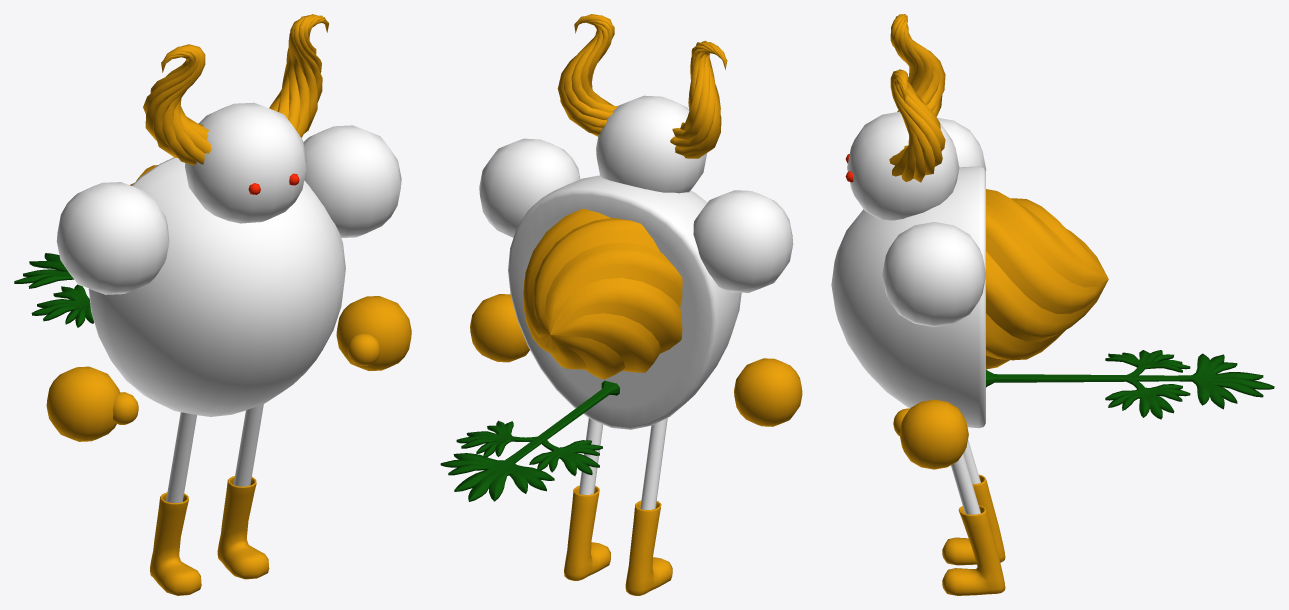
File: devilledEgg.fbx
3 views of the same model, side by side, from view 1: azimuth 30°, elevation 25°; view 2: azimuth 150°, elevation 25°; view 3: azimuth 270°, elevation 25° (orthographic). The views are drawn at different scales.
Visible parts, largest first — view 1: Body, Head, ShoulderRight, ShoulderLeft, HandRight, LegRight, LegLeft, HandLeft; view 2: Body, Head, ShoulderRight, ShoulderLeft, LegRight, HandRight, LegLeft, HandLeft; view 3: Body, Head, ShoulderLeft, HandLeft, LegLeft, LegRight, ShoulderRight.
Part boxes in pixels (box(x1,y1,x2,y2)): Body: box(14, 157, 345, 416); Head: box(143, 14, 328, 223); ShoulderRight: box(56, 182, 169, 294); ShoulderLeft: box(303, 125, 401, 237); HandRight: box(46, 366, 138, 441); LegRight: box(150, 412, 201, 595); LegLeft: box(217, 404, 269, 579); HandLeft: box(336, 296, 411, 370); Body: box(440, 175, 741, 501); Head: box(557, 14, 727, 193); ShoulderRight: box(693, 190, 793, 292); ShoulderLeft: box(479, 138, 580, 237); LegRight: box(625, 418, 672, 595); HandRight: box(734, 358, 802, 426); LegLeft: box(564, 418, 610, 580); HandLeft: box(470, 294, 529, 362); Body: box(831, 166, 1274, 428); Head: box(845, 14, 959, 220); ShoulderLeft: box(882, 222, 986, 326); HandLeft: box(893, 399, 968, 469); LegLeft: box(942, 454, 1005, 595); LegRight: box(942, 439, 1005, 565); ShoulderRight: box(937, 117, 986, 171).
Size of the model in its own units: 367 by 567 by 429.
